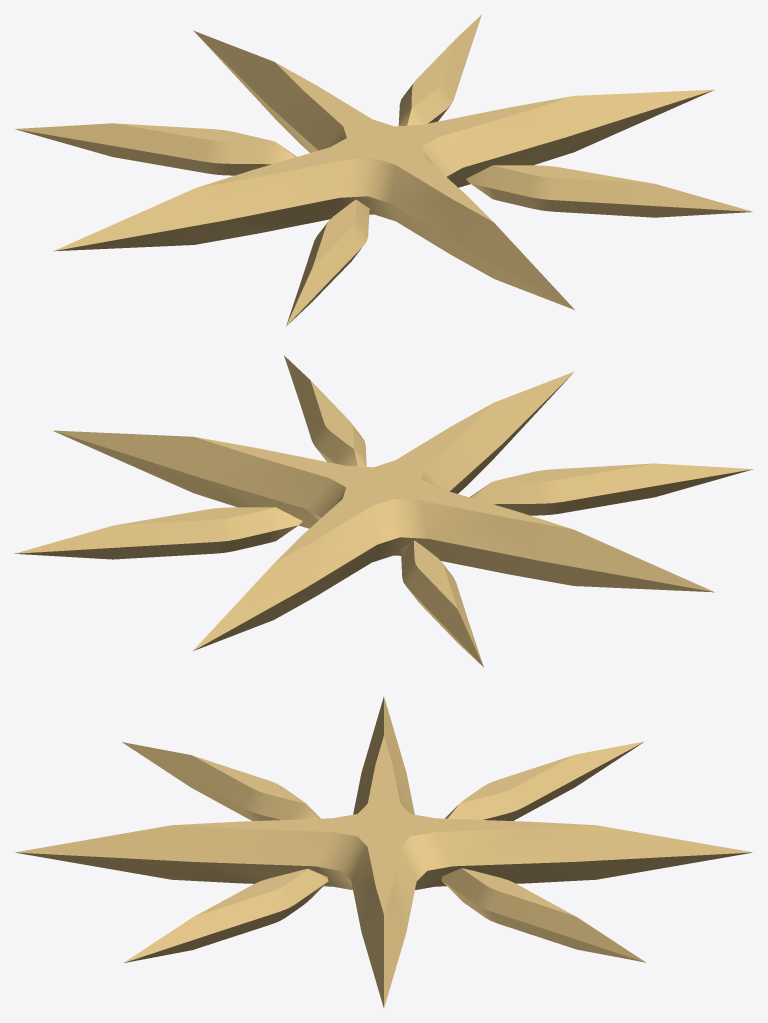
The model's file is Sigil1.fbx.
The picture shows the model from 3 angles, top to bottom: view 1: azimuth 30°, elevation 25°; view 2: azimuth 150°, elevation 25°; view 3: azimuth 270°, elevation 25°; orthographic projection. The views are drawn at different scales.
Parts seen in each view (by area): view 1: Sigil_1; view 2: Sigil_1; view 3: Sigil_1.
Part boxes in pixels (<box>): Sigil_1: <box>15,14,752,326</box>; Sigil_1: <box>14,355,753,667</box>; Sigil_1: <box>14,697,753,1007</box>.
Size of the model in its own units: 0.1228 by 0.01 by 0.1228.
